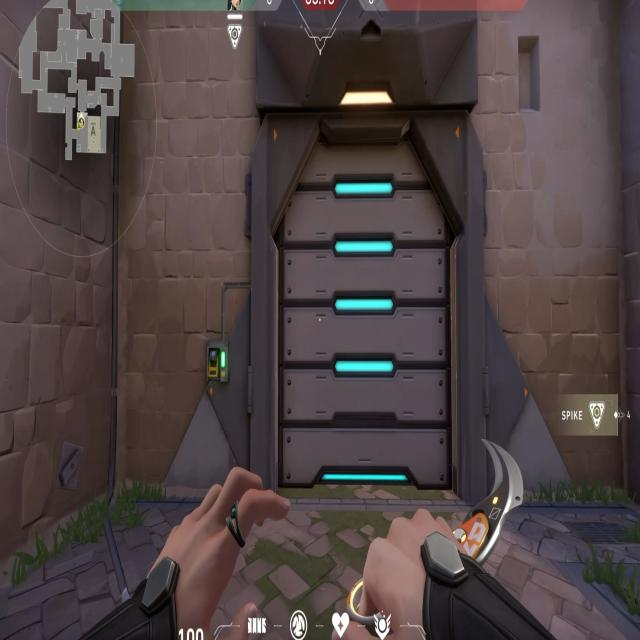A_Door: (256, 17, 489, 517)
